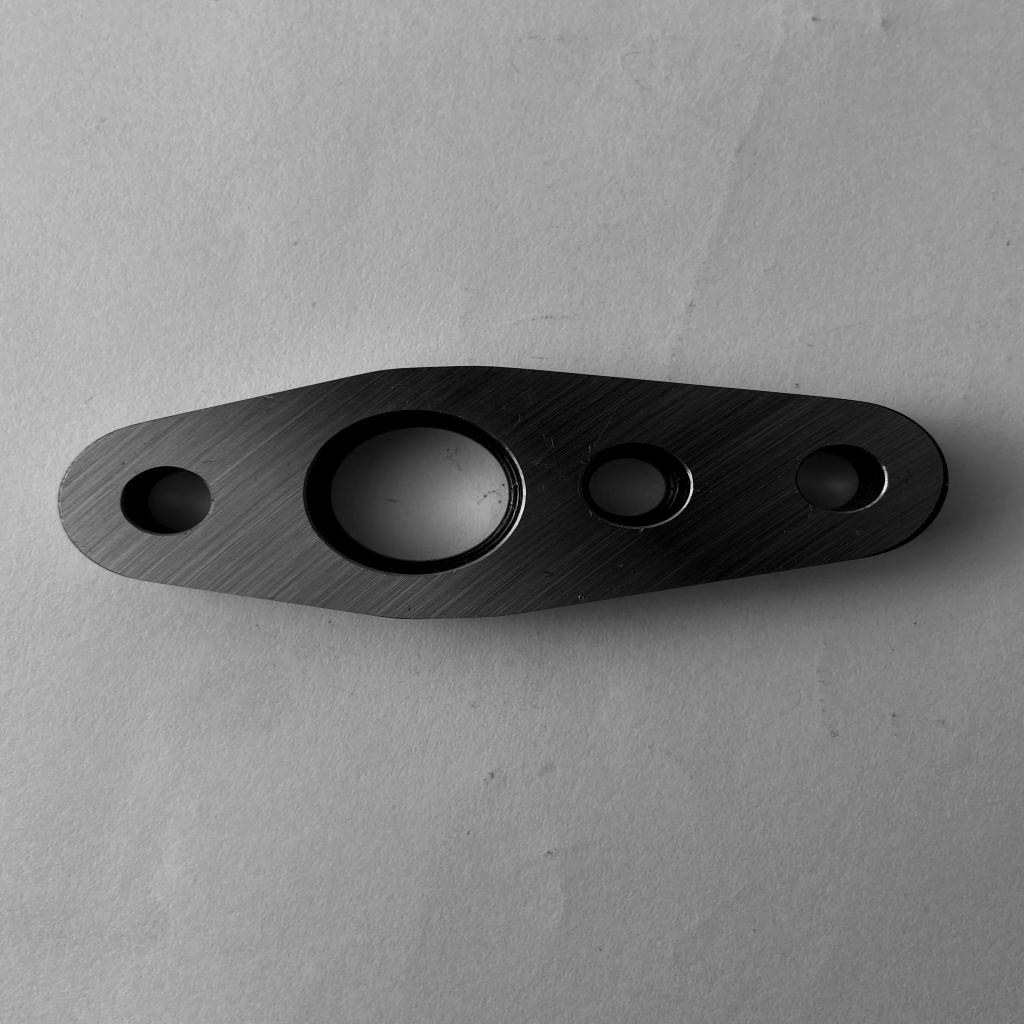chap: (586, 438, 601, 454), (635, 526, 648, 536), (262, 394, 277, 402), (576, 593, 588, 603)
